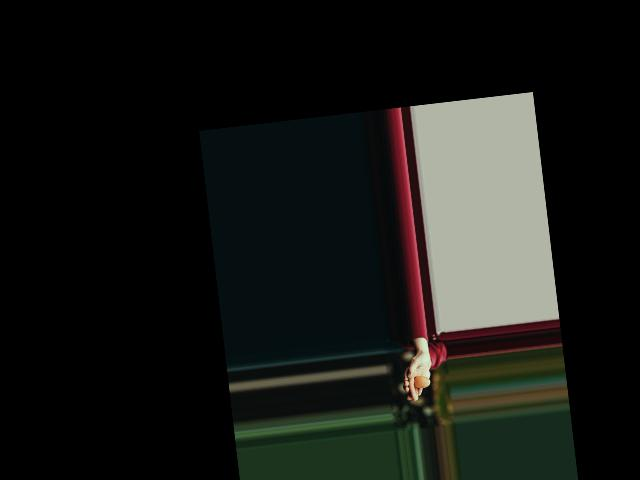egg: (413, 374, 430, 388)
